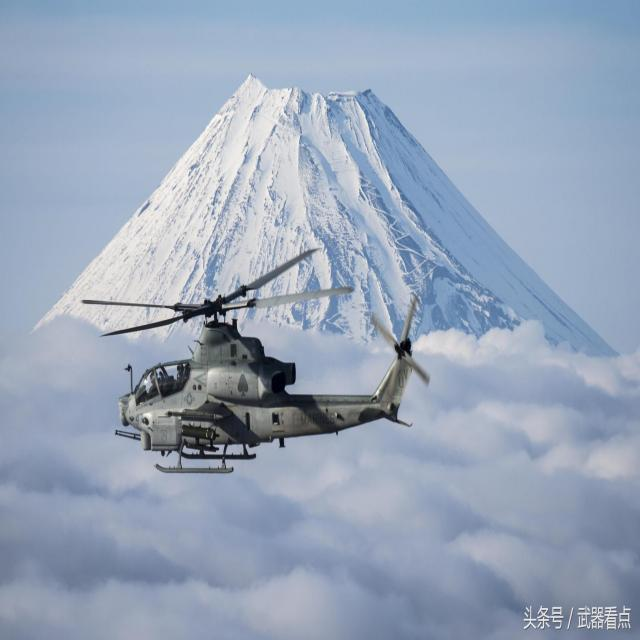MIL_HELO: (91, 242, 440, 489)
